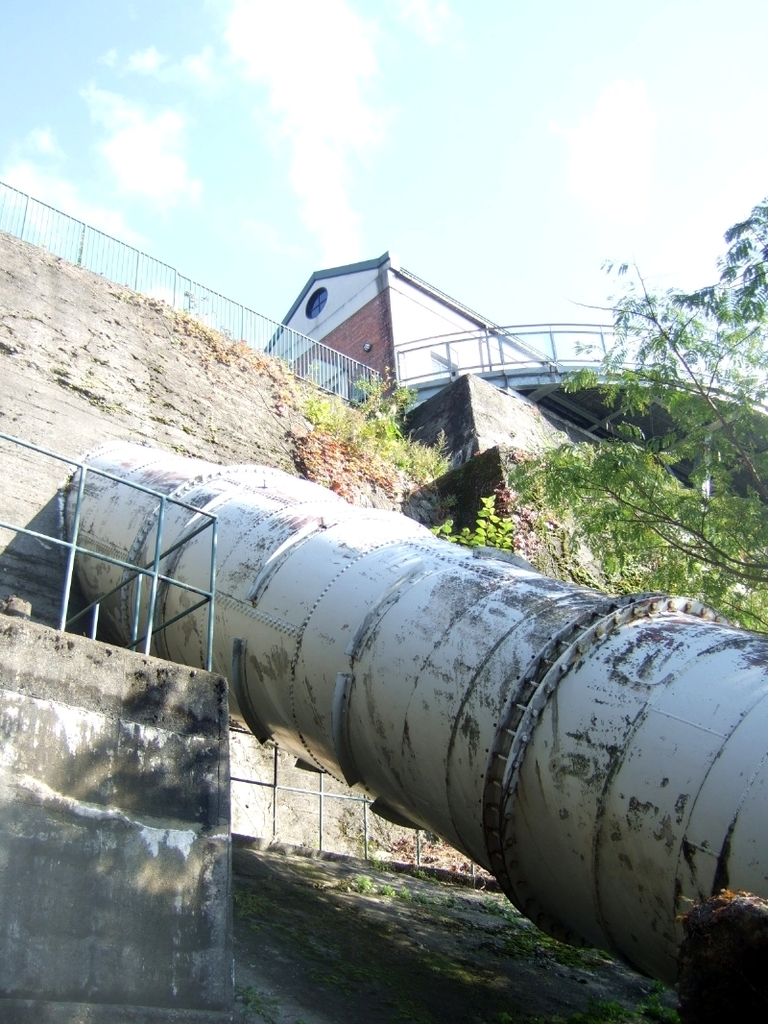Tree: (485, 195, 767, 639)
